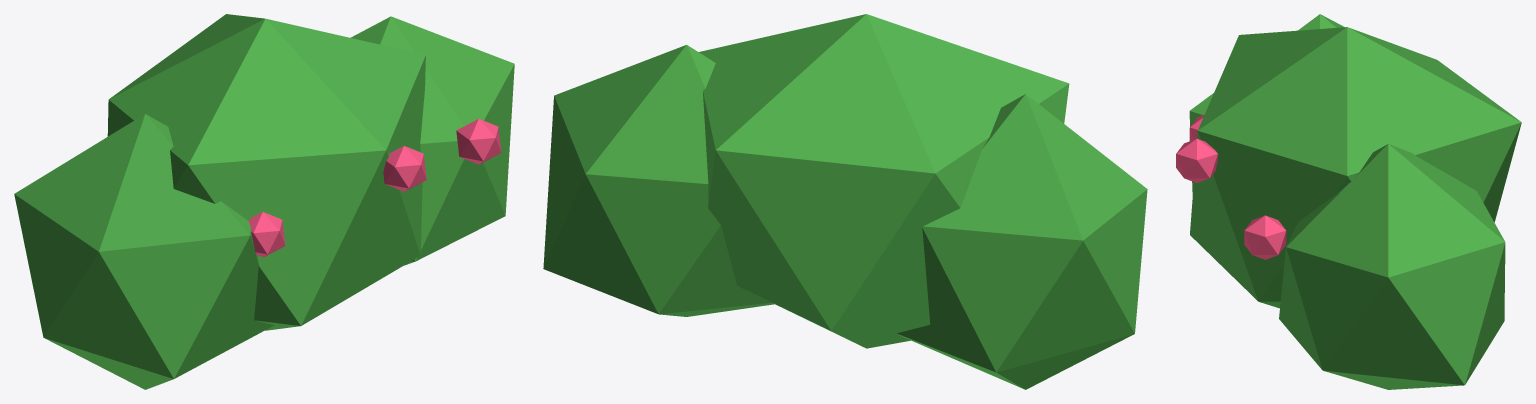
File: Bush.fbx
3 renders of one model, left to right at view 1: azimuth 30°, elevation 25°; view 2: azimuth 150°, elevation 25°; view 3: azimuth 270°, elevation 25°, orthographic. The views are drawn at different scales.
Visible parts, largest first — view 1: Bush, Berries; view 2: Bush; view 3: Bush, Berries.
Part boxes in pixels (x1=…): Bush: x1=14, y1=14, x2=514, y2=389; Berries: x1=248, y1=119, x2=501, y2=257; Bush: x1=543, y1=14, x2=1147, y2=389; Bush: x1=1189, y1=14, x2=1521, y2=389; Berries: x1=1176, y1=114, x2=1286, y2=259.
Size of the model in its own units: 4.15 by 2.57 by 2.53.
